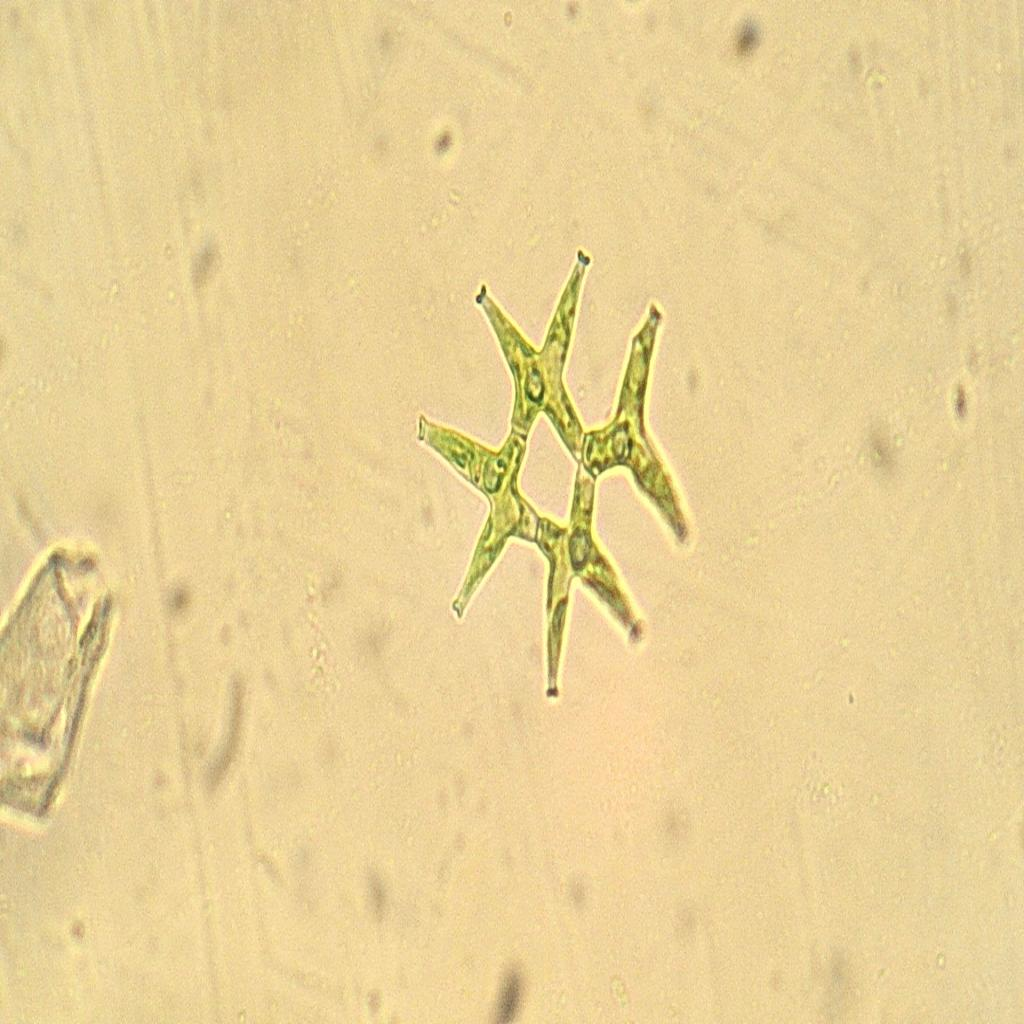Pediastrum_CT: (405, 239, 714, 718)
